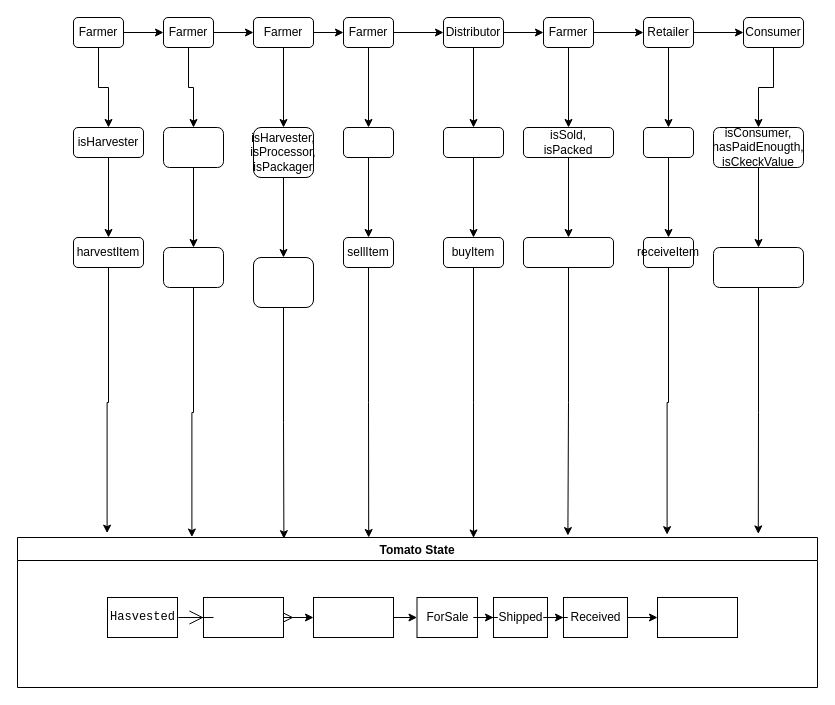
The diagram is 835 pixels wide and 705 high, and some of its shapes have lost their labels. Each missing label, with the centre of its shape:
"isBuyer, isPaidEnougth" belongs at pixel 473 142.
"isHarvester, isProcessor" belongs at pixel 193 147.
"isSeller" belongs at pixel 368 142.
"isShipped, isRetailer" belongs at pixel 668 142.
"Packaged" belongs at pixel 353 617.
"packageItem" belongs at pixel 283 282.
"Processed" belongs at pixel 243 617.
"processItem" belongs at pixel 193 267.
"Purchased" belongs at pixel 697 617.
"purchaseItem" belongs at pixel 758 267.
"shipItem" belongs at pixel 568 252.
